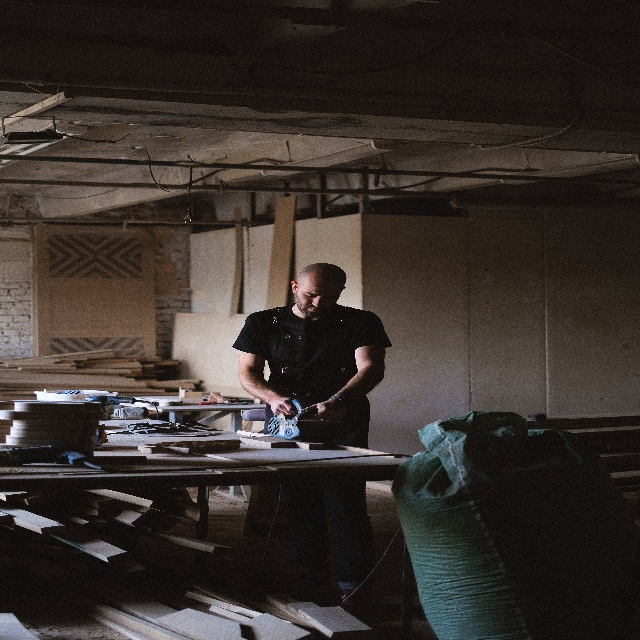Sin_guantes: (299, 397, 346, 422), (270, 393, 297, 416)
